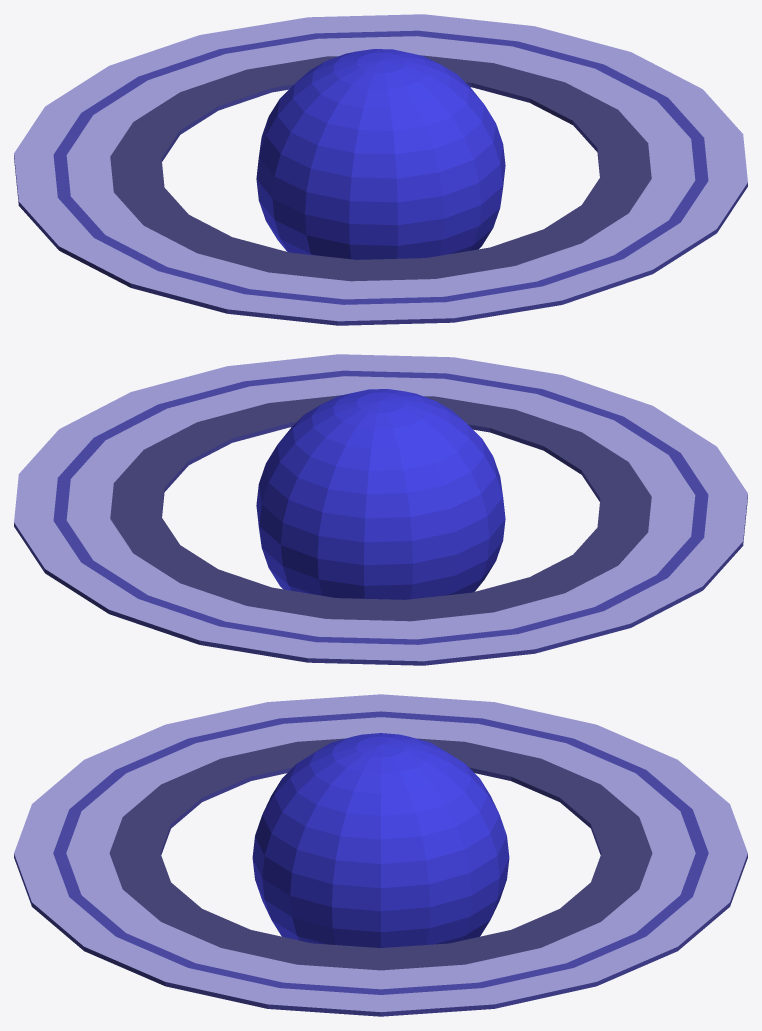
File: neptun.fbx
3 views of the same model, one above another, from view 1: azimuth 30°, elevation 25°; view 2: azimuth 150°, elevation 25°; view 3: azimuth 270°, elevation 25° (orthographic).
Visible parts, largest first — view 1: Circle.001, Cube; view 2: Circle.001, Cube; view 3: Circle.001, Cube.
Part boxes in pixels (box(x1,y1,x2,y2)): Circle.001: box(14, 14, 747, 325); Cube: box(256, 49, 505, 259); Circle.001: box(14, 354, 747, 665); Cube: box(256, 389, 505, 599); Circle.001: box(14, 694, 747, 1016); Cube: box(252, 733, 509, 947).
Bounding box in the file's own units: 1866 × 618 × 1821.
